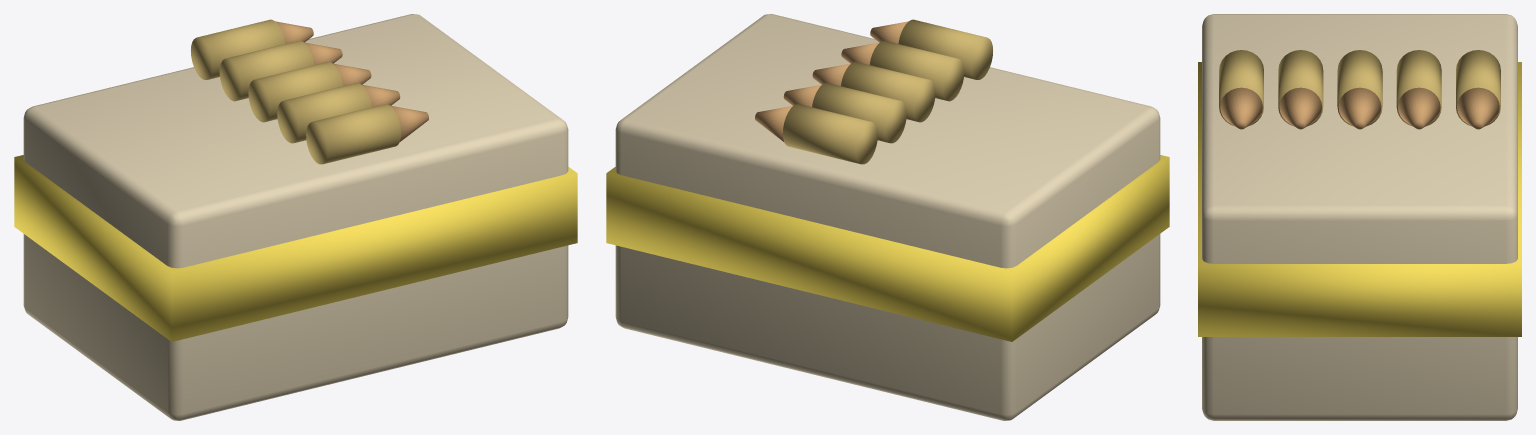
The model's file is SM_Ammo_45acp.glb.
3 renders of one model, left to right at view 1: azimuth 30°, elevation 25°; view 2: azimuth 150°, elevation 25°; view 3: azimuth 270°, elevation 25°, orthographic. The views are drawn at different scales.
Parts seen in each view (by area): view 1: SM_Ammo_45acp; view 2: SM_Ammo_45acp; view 3: SM_Ammo_45acp.
Part boxes in pixels (<box>): SM_Ammo_45acp: <box>14,14,577,420</box>; SM_Ammo_45acp: <box>606,14,1169,420</box>; SM_Ammo_45acp: <box>1198,14,1521,420</box>.
Bounding box in the file's own units: 0.122 × 0.0717 × 0.082.
